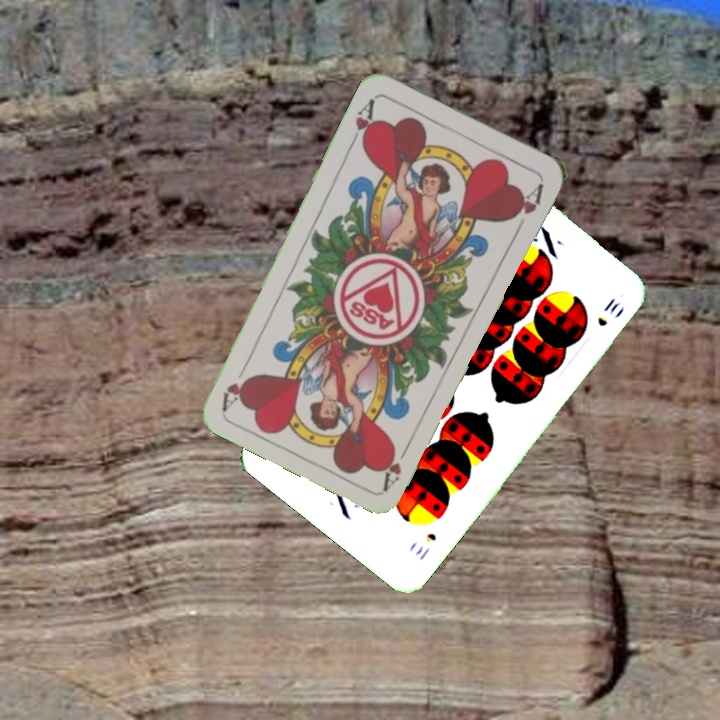HA: (379, 436, 415, 492), (346, 94, 380, 151)
S10: (411, 528, 439, 563)
